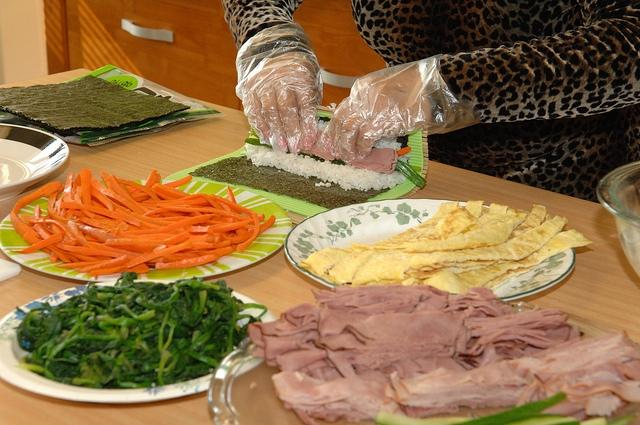carrot: (33, 224, 167, 264), (90, 174, 146, 216), (108, 174, 158, 218), (125, 241, 194, 268), (110, 199, 178, 226), (101, 240, 231, 254), (220, 215, 276, 244), (12, 181, 62, 213), (132, 175, 193, 200), (105, 230, 190, 246), (10, 231, 66, 254), (164, 207, 252, 221), (46, 188, 80, 224), (160, 214, 223, 232), (114, 208, 164, 229), (155, 254, 220, 270), (236, 212, 260, 253), (214, 194, 255, 218), (76, 223, 124, 243), (86, 241, 146, 256), (50, 244, 100, 262), (10, 210, 38, 238), (74, 186, 94, 219), (90, 184, 114, 211), (24, 232, 52, 255), (152, 182, 190, 198), (54, 259, 114, 269), (213, 219, 254, 233), (140, 185, 178, 200), (68, 220, 88, 247), (66, 210, 115, 221), (74, 216, 111, 229), (143, 206, 185, 217), (80, 168, 92, 206), (162, 252, 200, 264), (46, 245, 71, 263), (162, 197, 211, 206), (116, 262, 150, 274), (194, 246, 233, 256), (98, 219, 129, 231), (228, 186, 240, 214), (100, 171, 115, 192), (144, 170, 160, 188), (183, 225, 214, 234), (141, 208, 174, 216), (55, 192, 66, 216), (118, 183, 134, 199), (116, 234, 150, 240), (155, 216, 192, 221), (34, 204, 42, 226), (122, 224, 143, 232), (396, 146, 411, 156), (134, 195, 150, 202), (72, 181, 80, 194), (186, 233, 203, 239), (156, 204, 180, 208), (128, 189, 138, 194)
